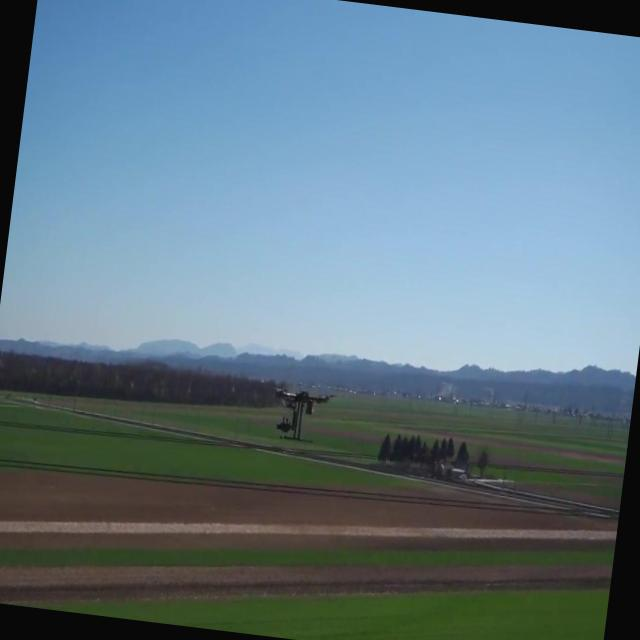drone: (265, 380, 335, 446)
